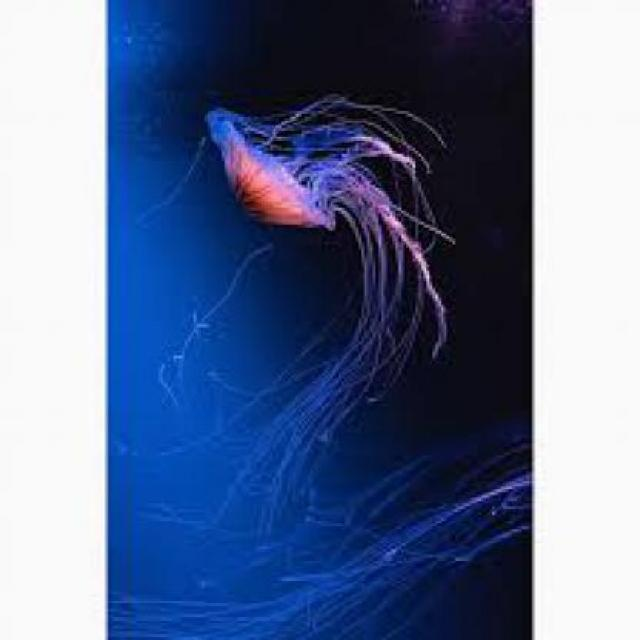Jellyfish: (194, 88, 456, 362)
